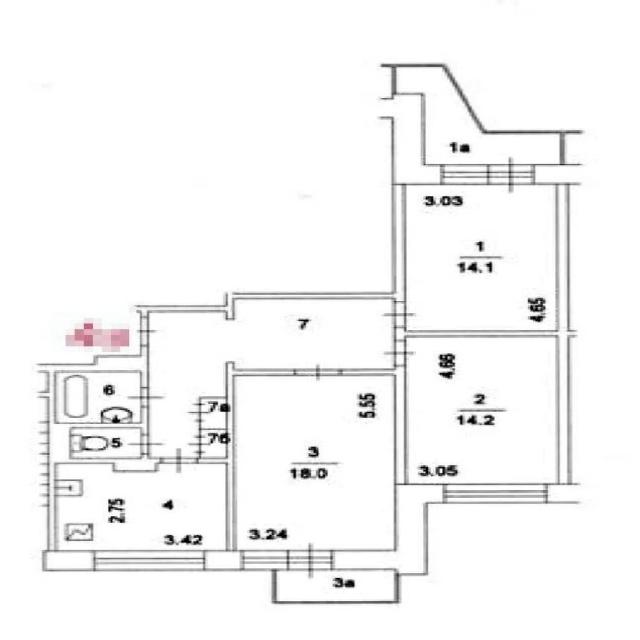Bathrooms: (57, 373, 140, 422), (71, 428, 139, 458)
Corridors: (151, 299, 394, 457), (396, 67, 560, 164), (274, 571, 396, 602), (202, 401, 226, 428), (204, 431, 226, 456)
Doors: (488, 156, 536, 194), (287, 542, 333, 581), (162, 447, 199, 474), (382, 301, 419, 328), (382, 340, 419, 366), (293, 362, 343, 381), (125, 387, 166, 408), (126, 434, 165, 454), (135, 317, 162, 345), (182, 402, 214, 423), (185, 434, 215, 454)
LBwalls: (331, 484, 445, 575), (378, 92, 443, 185), (555, 184, 574, 484), (33, 355, 151, 373), (393, 185, 407, 303), (395, 365, 407, 485), (535, 164, 587, 185), (42, 550, 94, 571), (49, 423, 71, 464), (204, 550, 242, 572), (547, 483, 585, 503), (112, 458, 157, 472)
Offices: (234, 377, 394, 551), (407, 339, 558, 483), (407, 185, 556, 329), (55, 464, 226, 550)
Walls: (381, 63, 585, 166), (197, 362, 294, 552), (134, 292, 396, 319), (392, 326, 558, 342), (70, 406, 150, 434), (35, 373, 56, 424), (49, 464, 55, 550), (342, 368, 395, 375), (70, 458, 113, 464), (139, 373, 148, 387), (141, 345, 149, 355), (572, 330, 578, 338), (156, 457, 162, 464)
Windows: (94, 550, 205, 571), (444, 484, 549, 503), (442, 164, 488, 184), (242, 551, 287, 570)
